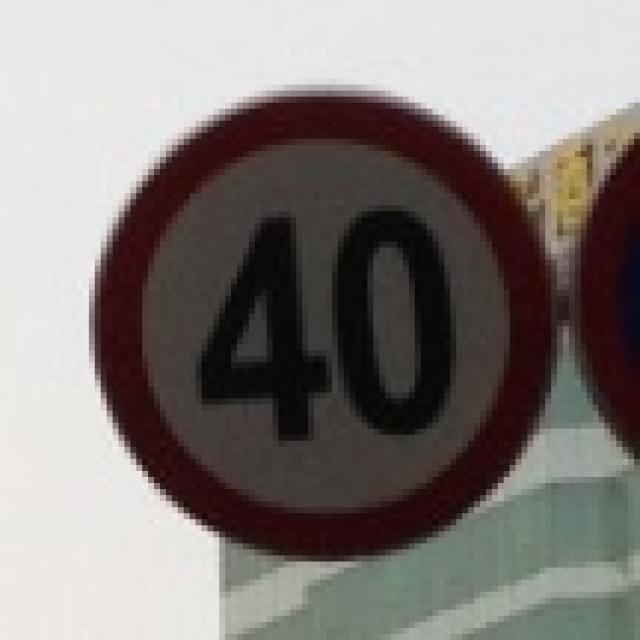Speed Limit -40-: (190, 206, 461, 447)
